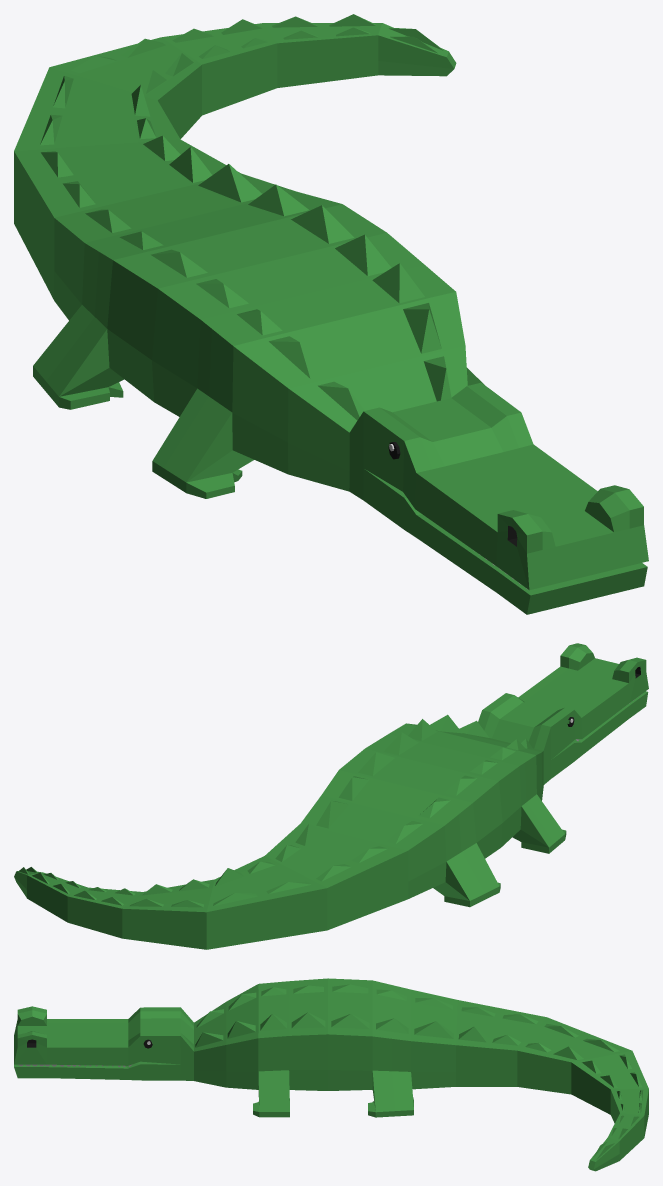
Rendered from Crocodile_01.fbx.
3 views of the same model, one above another, from view 1: azimuth 30°, elevation 25°; view 2: azimuth 150°, elevation 25°; view 3: azimuth 270°, elevation 25° (orthographic). The views are drawn at different scales.
Visible parts, largest first — view 1: Crocodile_01; view 2: Crocodile_01; view 3: Crocodile_01.
Boxes of the visible parts, x1,y1,x2,y2 form: Crocodile_01: [14, 14, 648, 614]; Crocodile_01: [14, 643, 648, 949]; Crocodile_01: [14, 978, 648, 1171].
Bounding box in the file's own units: 13.26 × 3.5 × 23.74.
